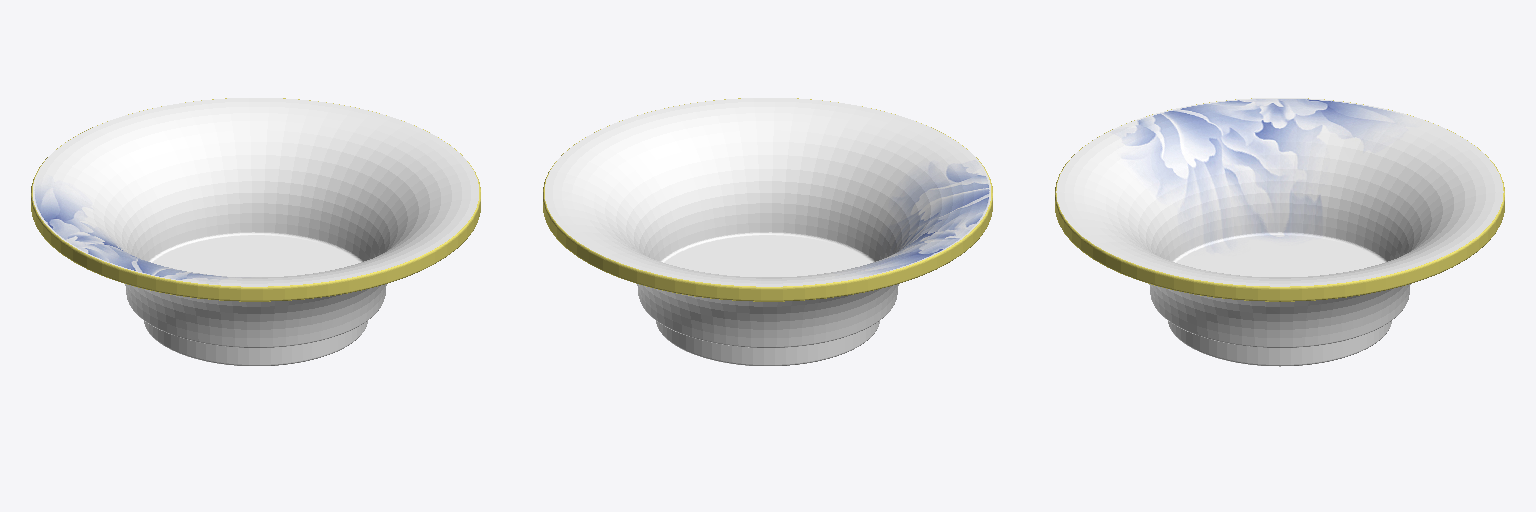
3 views of the same model, side by side, from view 1: azimuth 30°, elevation 25°; view 2: azimuth 150°, elevation 25°; view 3: azimuth 270°, elevation 25° (orthographic).
Parts seen in each view (by area): view 1: Line132; view 2: Line132; view 3: Line132.
Boxes of the visible parts, x1=… form: Line132: x1=31, y1=98, x2=480, y2=365; Line132: x1=543, y1=98, x2=992, y2=365; Line132: x1=1055, y1=98, x2=1504, y2=366.
Size of the model in its own units: 80 by 24.99 by 80.
4 materials, 2 textured.